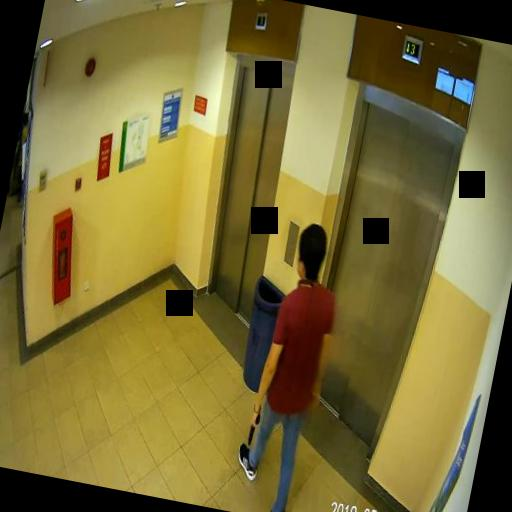Handgun: (246, 405, 262, 444)
